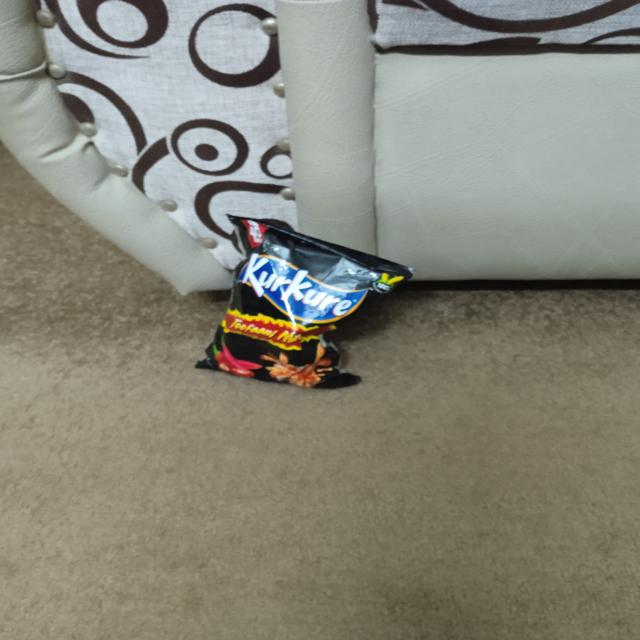Plastic: (193, 211, 414, 390)
